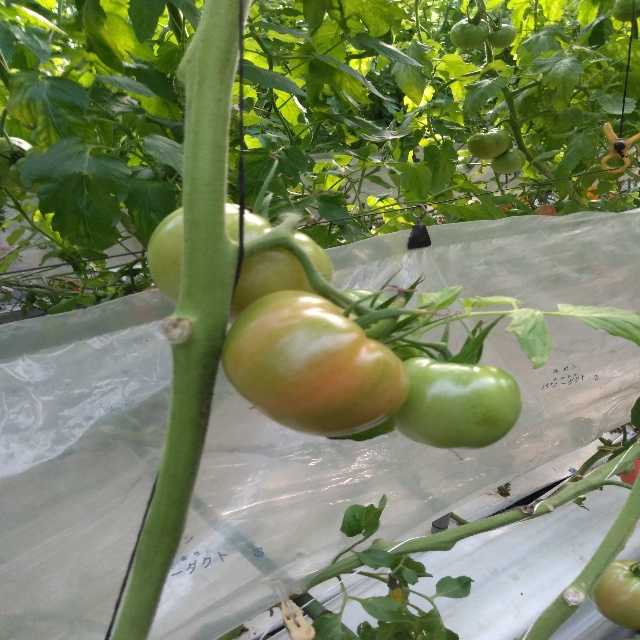b_green: (146, 202, 333, 326), (394, 357, 522, 451), (588, 559, 639, 630), (466, 129, 510, 160), (489, 149, 526, 174)
b_half_ripened: (221, 289, 410, 437)
